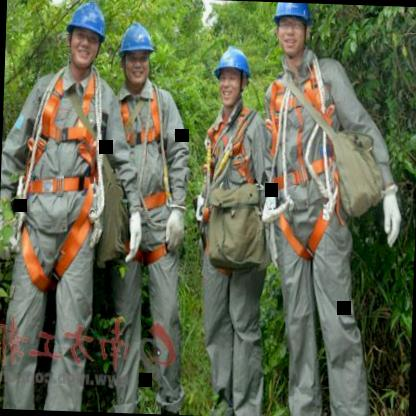helmet: (61, 0, 110, 74), (115, 18, 160, 95), (210, 44, 254, 110), (271, 2, 314, 60)
